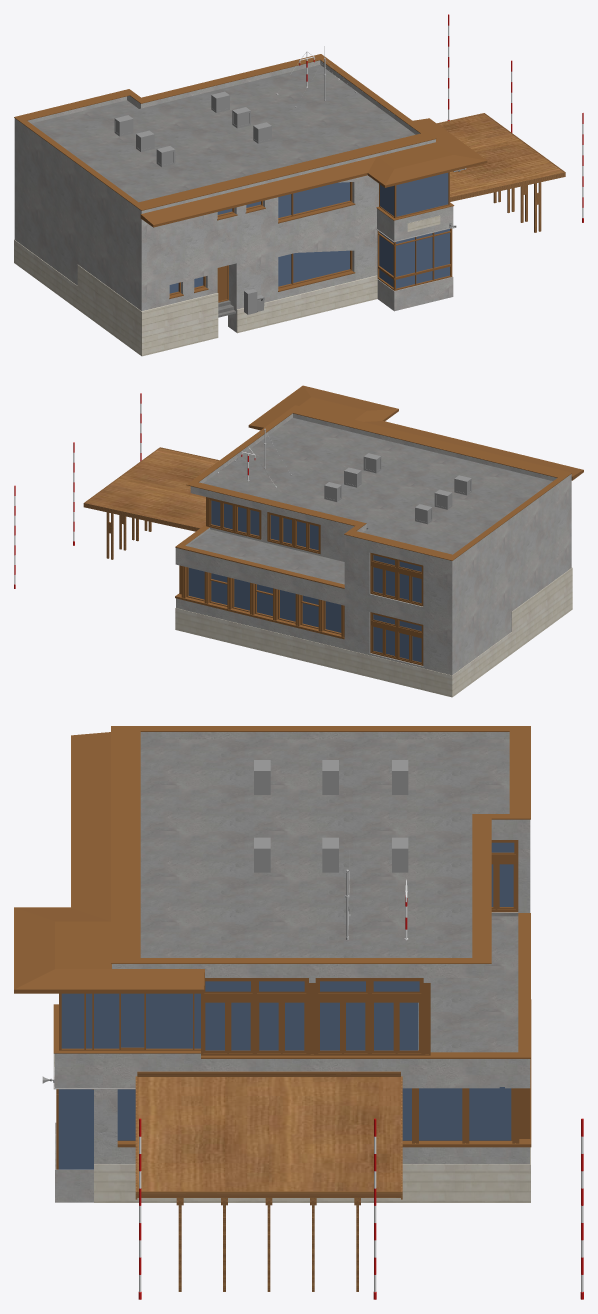
The model's file is terminal.glb.
3 views of the same model, one above another, from view 1: azimuth 30°, elevation 25°; view 2: azimuth 150°, elevation 25°; view 3: azimuth 270°, elevation 25° (orthographic). The views are drawn at different scales.
Parts seen in each view (by area): view 1: Walls01, Floors01, Object003_stone 2 nesura 600x600x180_0, Object002_wood_0, Rectangle02, sunshade01, Window_glass01, Window_glass02, Window_frames01, Rectangle01, Window_frames02, Box704; view 2: Walls01, Floors01, Object003_stone 2 nesura 600x600x180_0, sunshade01, Object002_wood_0, Window_glass01, Window_frames01, Rectangle02, Window_frames02, Window_glass02, Rectangle01; view 3: Floors01, sunshade01, Window_glass01, Walls01, Object002_wood_0, Rectangle02, Window_frames01, Object003_stone 2 nesura 600x600x180_0, Rectangle01, Window_frames02, Window_glass02.
Boxes of the visible parts, <box> form: Walls01: <box>14,60,453,332</box>; Floors01: <box>31,65,415,202</box>; Object003_stone 2 nesura 600x600x180_0: <box>14,215,440,356</box>; Object002_wood_0: <box>14,54,454,298</box>; Rectangle02: <box>142,119,485,224</box>; sunshade01: <box>437,113,565,232</box>; Window_glass01: <box>379,172,449,288</box>; Window_glass02: <box>169,182,349,293</box>; Window_frames01: <box>377,172,452,290</box>; Rectangle01: <box>140,118,487,227</box>; Window_frames02: <box>169,182,352,295</box>; Box704: <box>244,289,264,314</box>; Walls01: <box>175,413,571,675</box>; Floors01: <box>187,418,552,584</box>; Object003_stone 2 nesura 600x600x180_0: <box>175,567,572,697</box>; sunshade01: <box>83,447,219,559</box>; Object002_wood_0: <box>175,405,571,588</box>; Window_glass01: <box>188,500,341,632</box>; Window_frames01: <box>175,497,344,639</box>; Rectangle02: <box>250,386,582,475</box>; Window_frames02: <box>370,552,423,665</box>; Window_glass02: <box>373,555,421,662</box>; Rectangle01: <box>248,385,583,480</box>; Floors01: <box>140,739,518,1052</box>; sunshade01: <box>135,1071,402,1291</box>; Window_glass01: <box>58,981,511,1169</box>; Walls01: <box>53,732,530,1202</box>; Object002_wood_0: <box>53,726,530,1058</box>; Rectangle02: <box>15,732,202,988</box>; Window_frames01: <box>56,978,531,1169</box>; Object003_stone 2 nesura 600x600x180_0: <box>54,1053,530,1202</box>; Rectangle01: <box>14,732,204,993</box>; Window_frames02: <box>491,840,518,912</box>; Window_glass02: <box>491,842,514,906</box>.
Bounding box in the file's own units: 23.79 × 9.82 × 15.8.
Materials: 9 (4 with a texture image).
